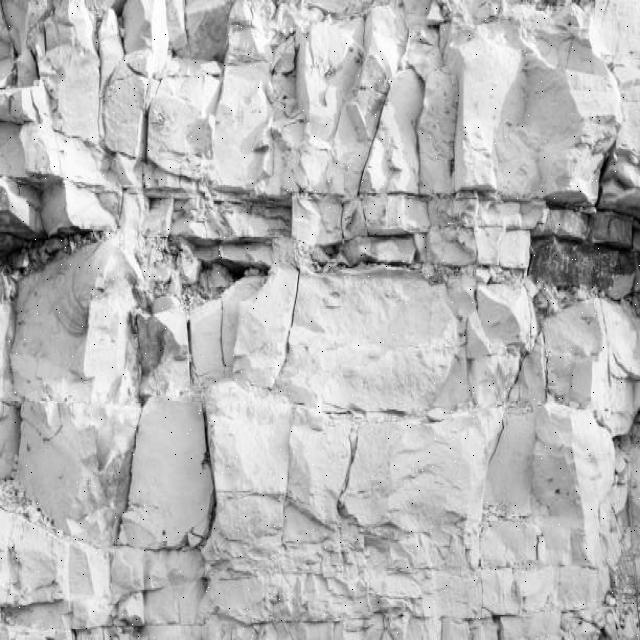Sedimentary: (3, 1, 639, 637)
